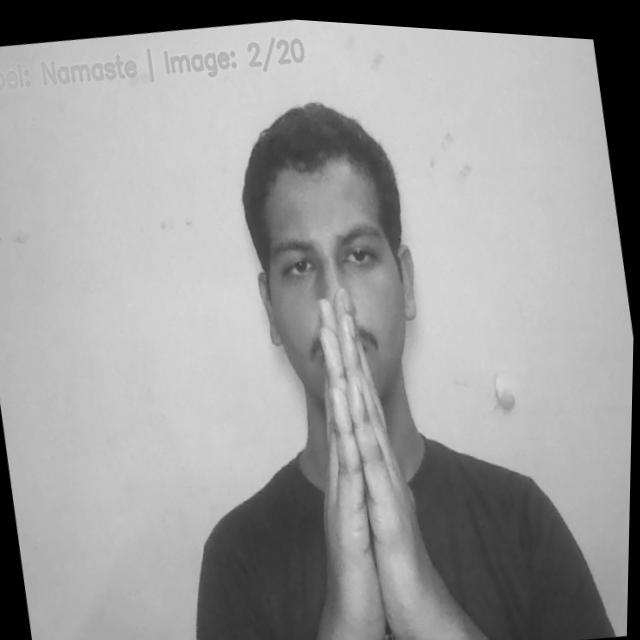Namaste: (296, 281, 444, 640)
